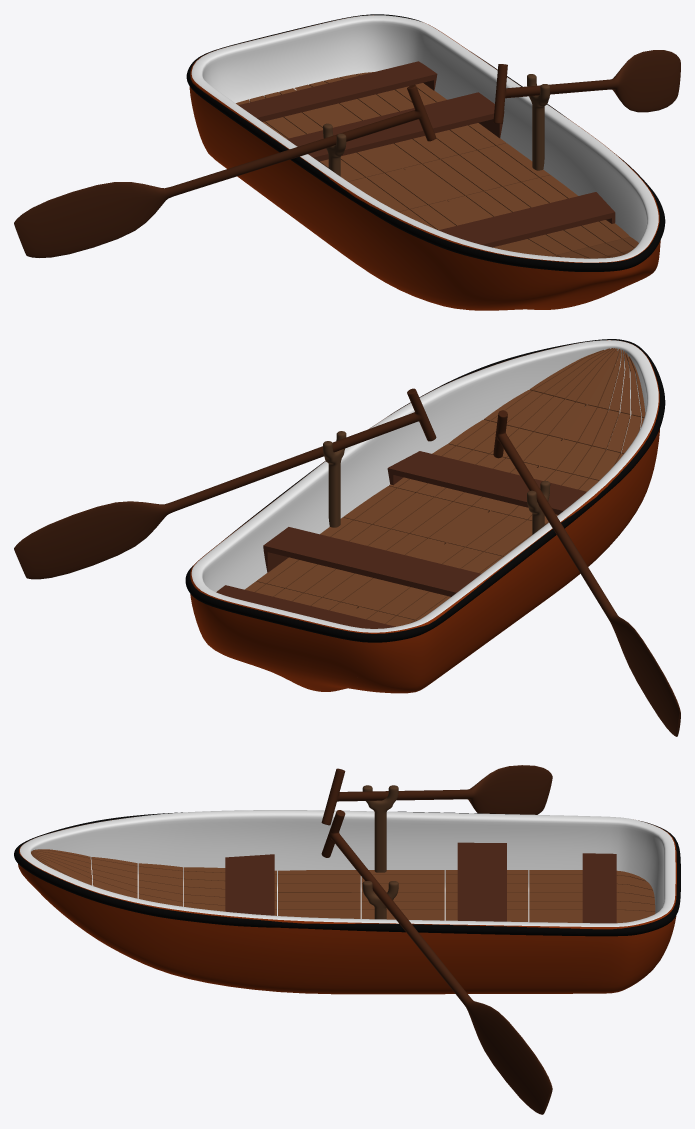
File: Boat.fbx
3 renders of one model, top to bottom at view 1: azimuth 30°, elevation 25°; view 2: azimuth 150°, elevation 25°; view 3: azimuth 270°, elevation 25°, orthographic. The views are drawn at different scales.
Parts seen in each view (by area): view 1: Fiber Boat; view 2: Fiber Boat; view 3: Fiber Boat.
Boxes of the visible parts, x1,y1,x2,y2 form: Fiber Boat: [14, 14, 680, 310]; Fiber Boat: [14, 339, 680, 736]; Fiber Boat: [14, 765, 680, 1114].
Bounding box in the file's own units: 1634 × 440 × 1475.
